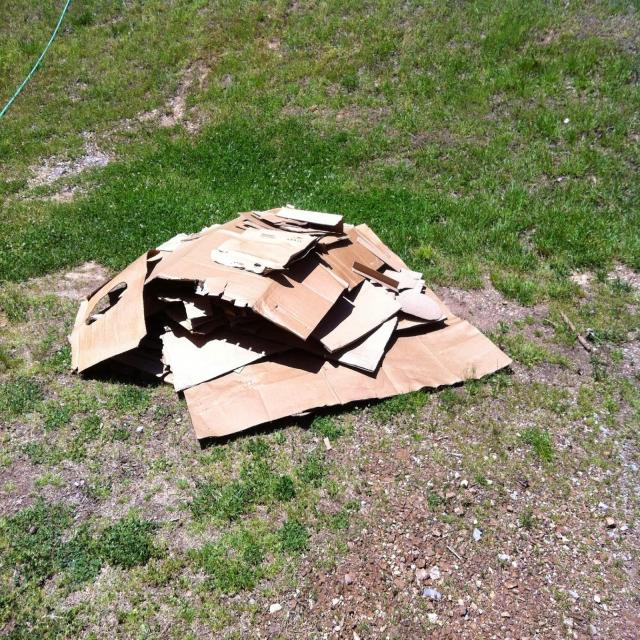cardboard: (72, 202, 511, 443)
